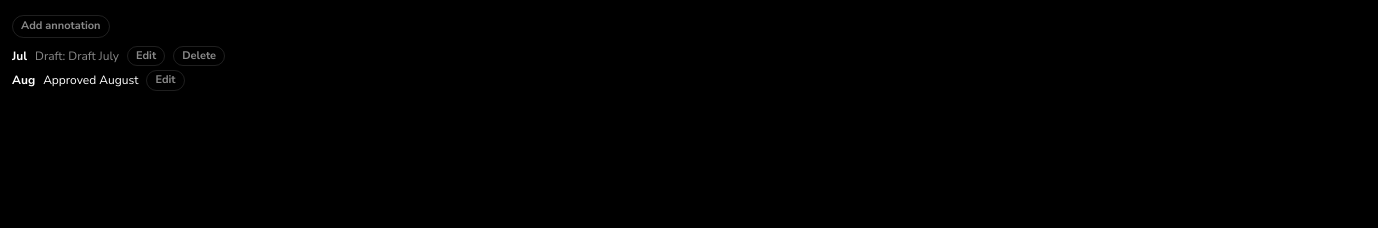
Test case: a failed save shows its message and keeps the form open
The width and height of the screenshot is (1378, 228).
Step 1. Click the button "Add annotation" → point(61, 26), box top-left (12, 15), bottom-right (110, 38)
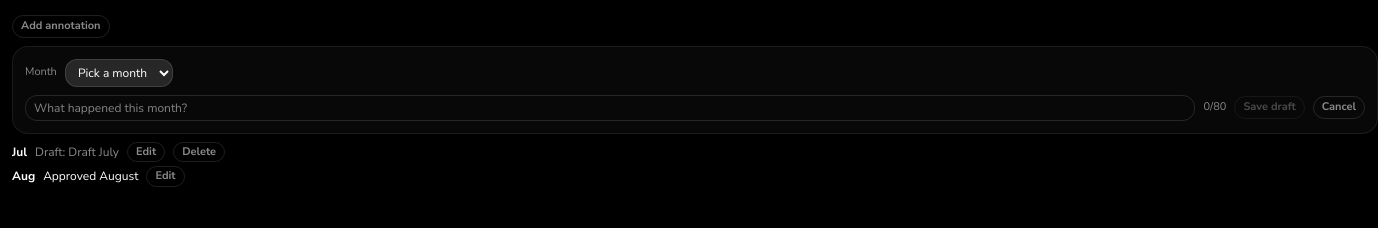
Step 2. Select "Sep" in the dropdown labelled "Month" → point(119, 72), box top-left (65, 58), bottom-right (173, 86)
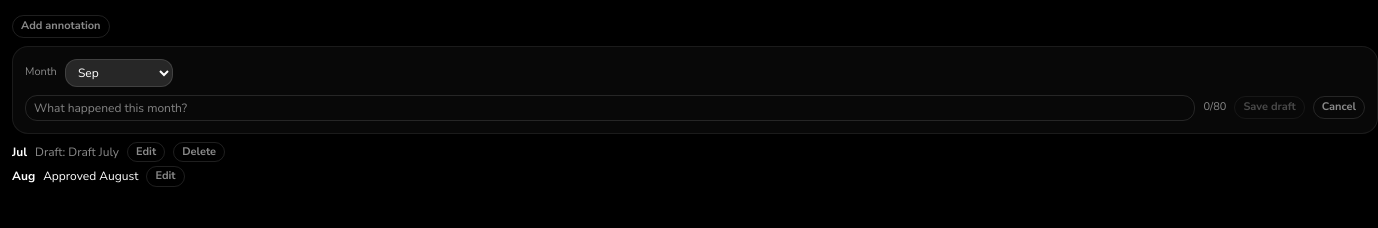
Step 3. Type "x" into the field named "Note text" → point(610, 108), box top-left (25, 94), bottom-right (1196, 120)
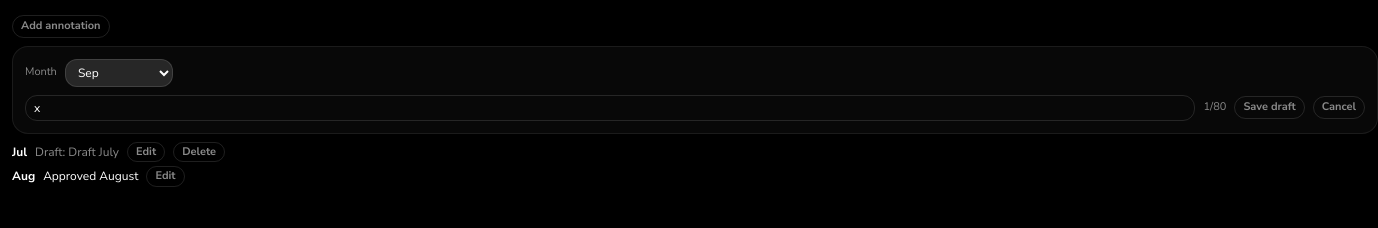
Step 4. Click the button "Save draft" → point(1270, 108), box top-left (1234, 96), bottom-right (1305, 119)
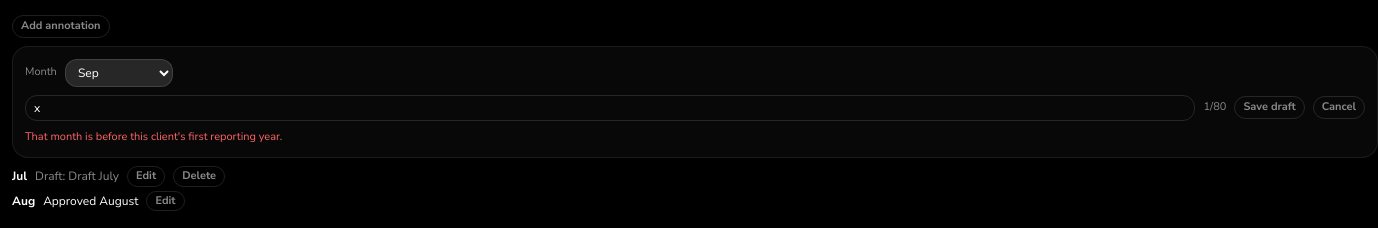
Check: the message reads "That month is before this client's first reporting year.", box top-left (25, 128), bottom-right (282, 144)
